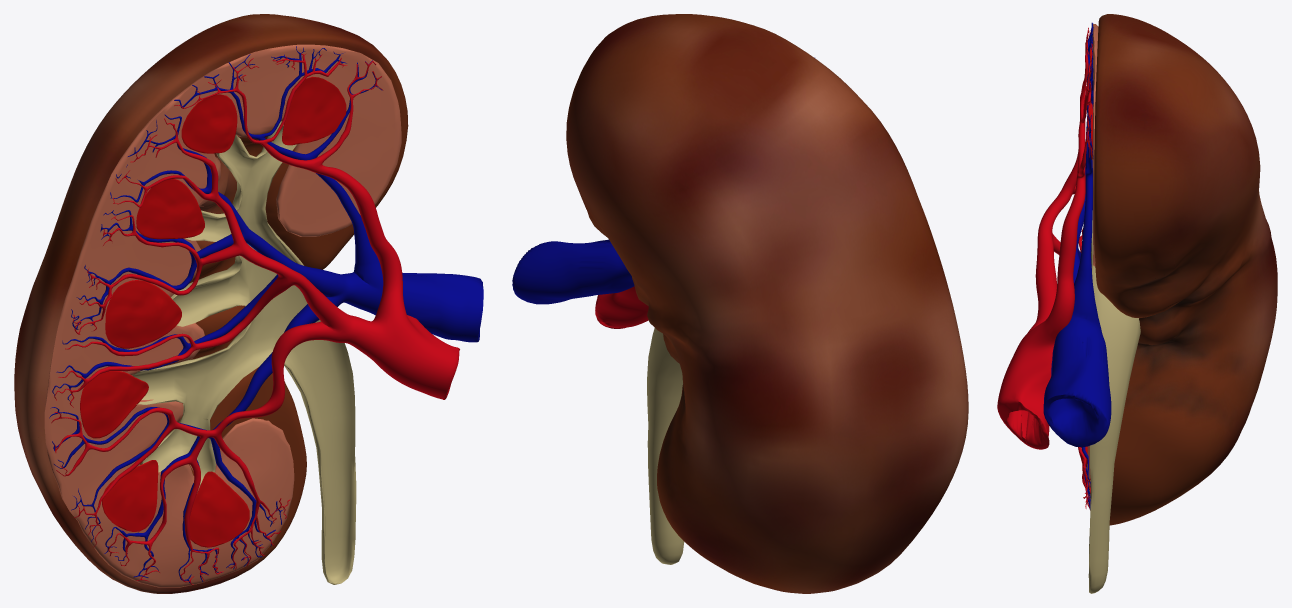
Rendered from compressed_kidney.glb.
3 renders of one model, left to right at view 1: azimuth 30°, elevation 25°; view 2: azimuth 150°, elevation 25°; view 3: azimuth 270°, elevation 25°, orthographic. The views are drawn at different scales.
Parts seen in each view (by area): view 1: Maya_2018:Cortex, Maya_2018:Capsule, Maya_2018:Ureter, Maya_2018:BLUE, Maya_2018:Medulla pyramid, Maya_2018:RED; view 2: Maya_2018:Capsule, Maya_2018:RED, Maya_2018:Ureter, Maya_2018:BLUE; view 3: Maya_2018:Capsule, Maya_2018:BLUE, Maya_2018:RED, Maya_2018:Ureter, Maya_2018:Cortex.
Boxes of the visible parts, x1,y1,x2,y2 form: Maya_2018:Cortex: (44,44,401,587); Maya_2018:Capsule: (14,14,408,593); Maya_2018:Ureter: (132,121,356,584); Maya_2018:BLUE: (51,53,459,584); Maya_2018:Medulla pyramid: (80,76,346,547); Maya_2018:RED: (49,46,483,583); Maya_2018:Capsule: (566,14,968,593); Maya_2018:RED: (512,57,814,304); Maya_2018:Ureter: (647,328,684,564); Maya_2018:BLUE: (595,286,648,328); Maya_2018:Capsule: (1094,14,1277,525); Maya_2018:BLUE: (997,27,1092,509); Maya_2018:RED: (1043,22,1111,509); Maya_2018:Ureter: (1088,210,1140,593); Maya_2018:Cortex: (1086,24,1098,503).
Size of the model in its own units: 8.47 by 10.1 by 4.88.
6 materials, 1 textured.
